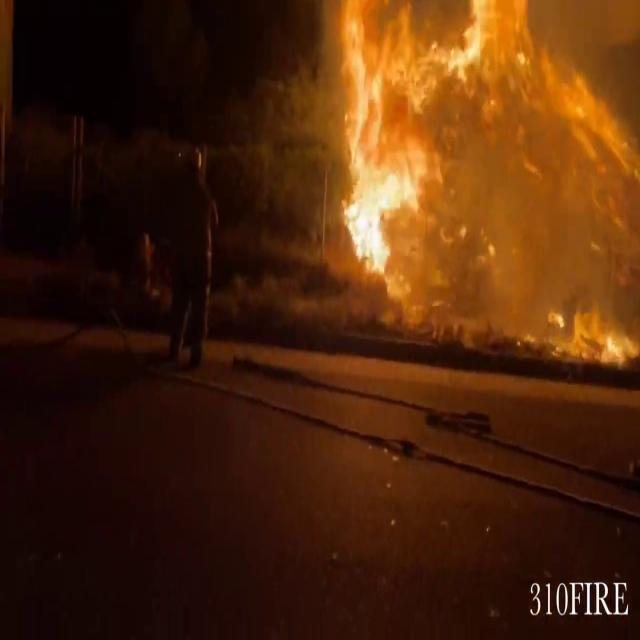Smoke: (306, 0, 640, 331)
